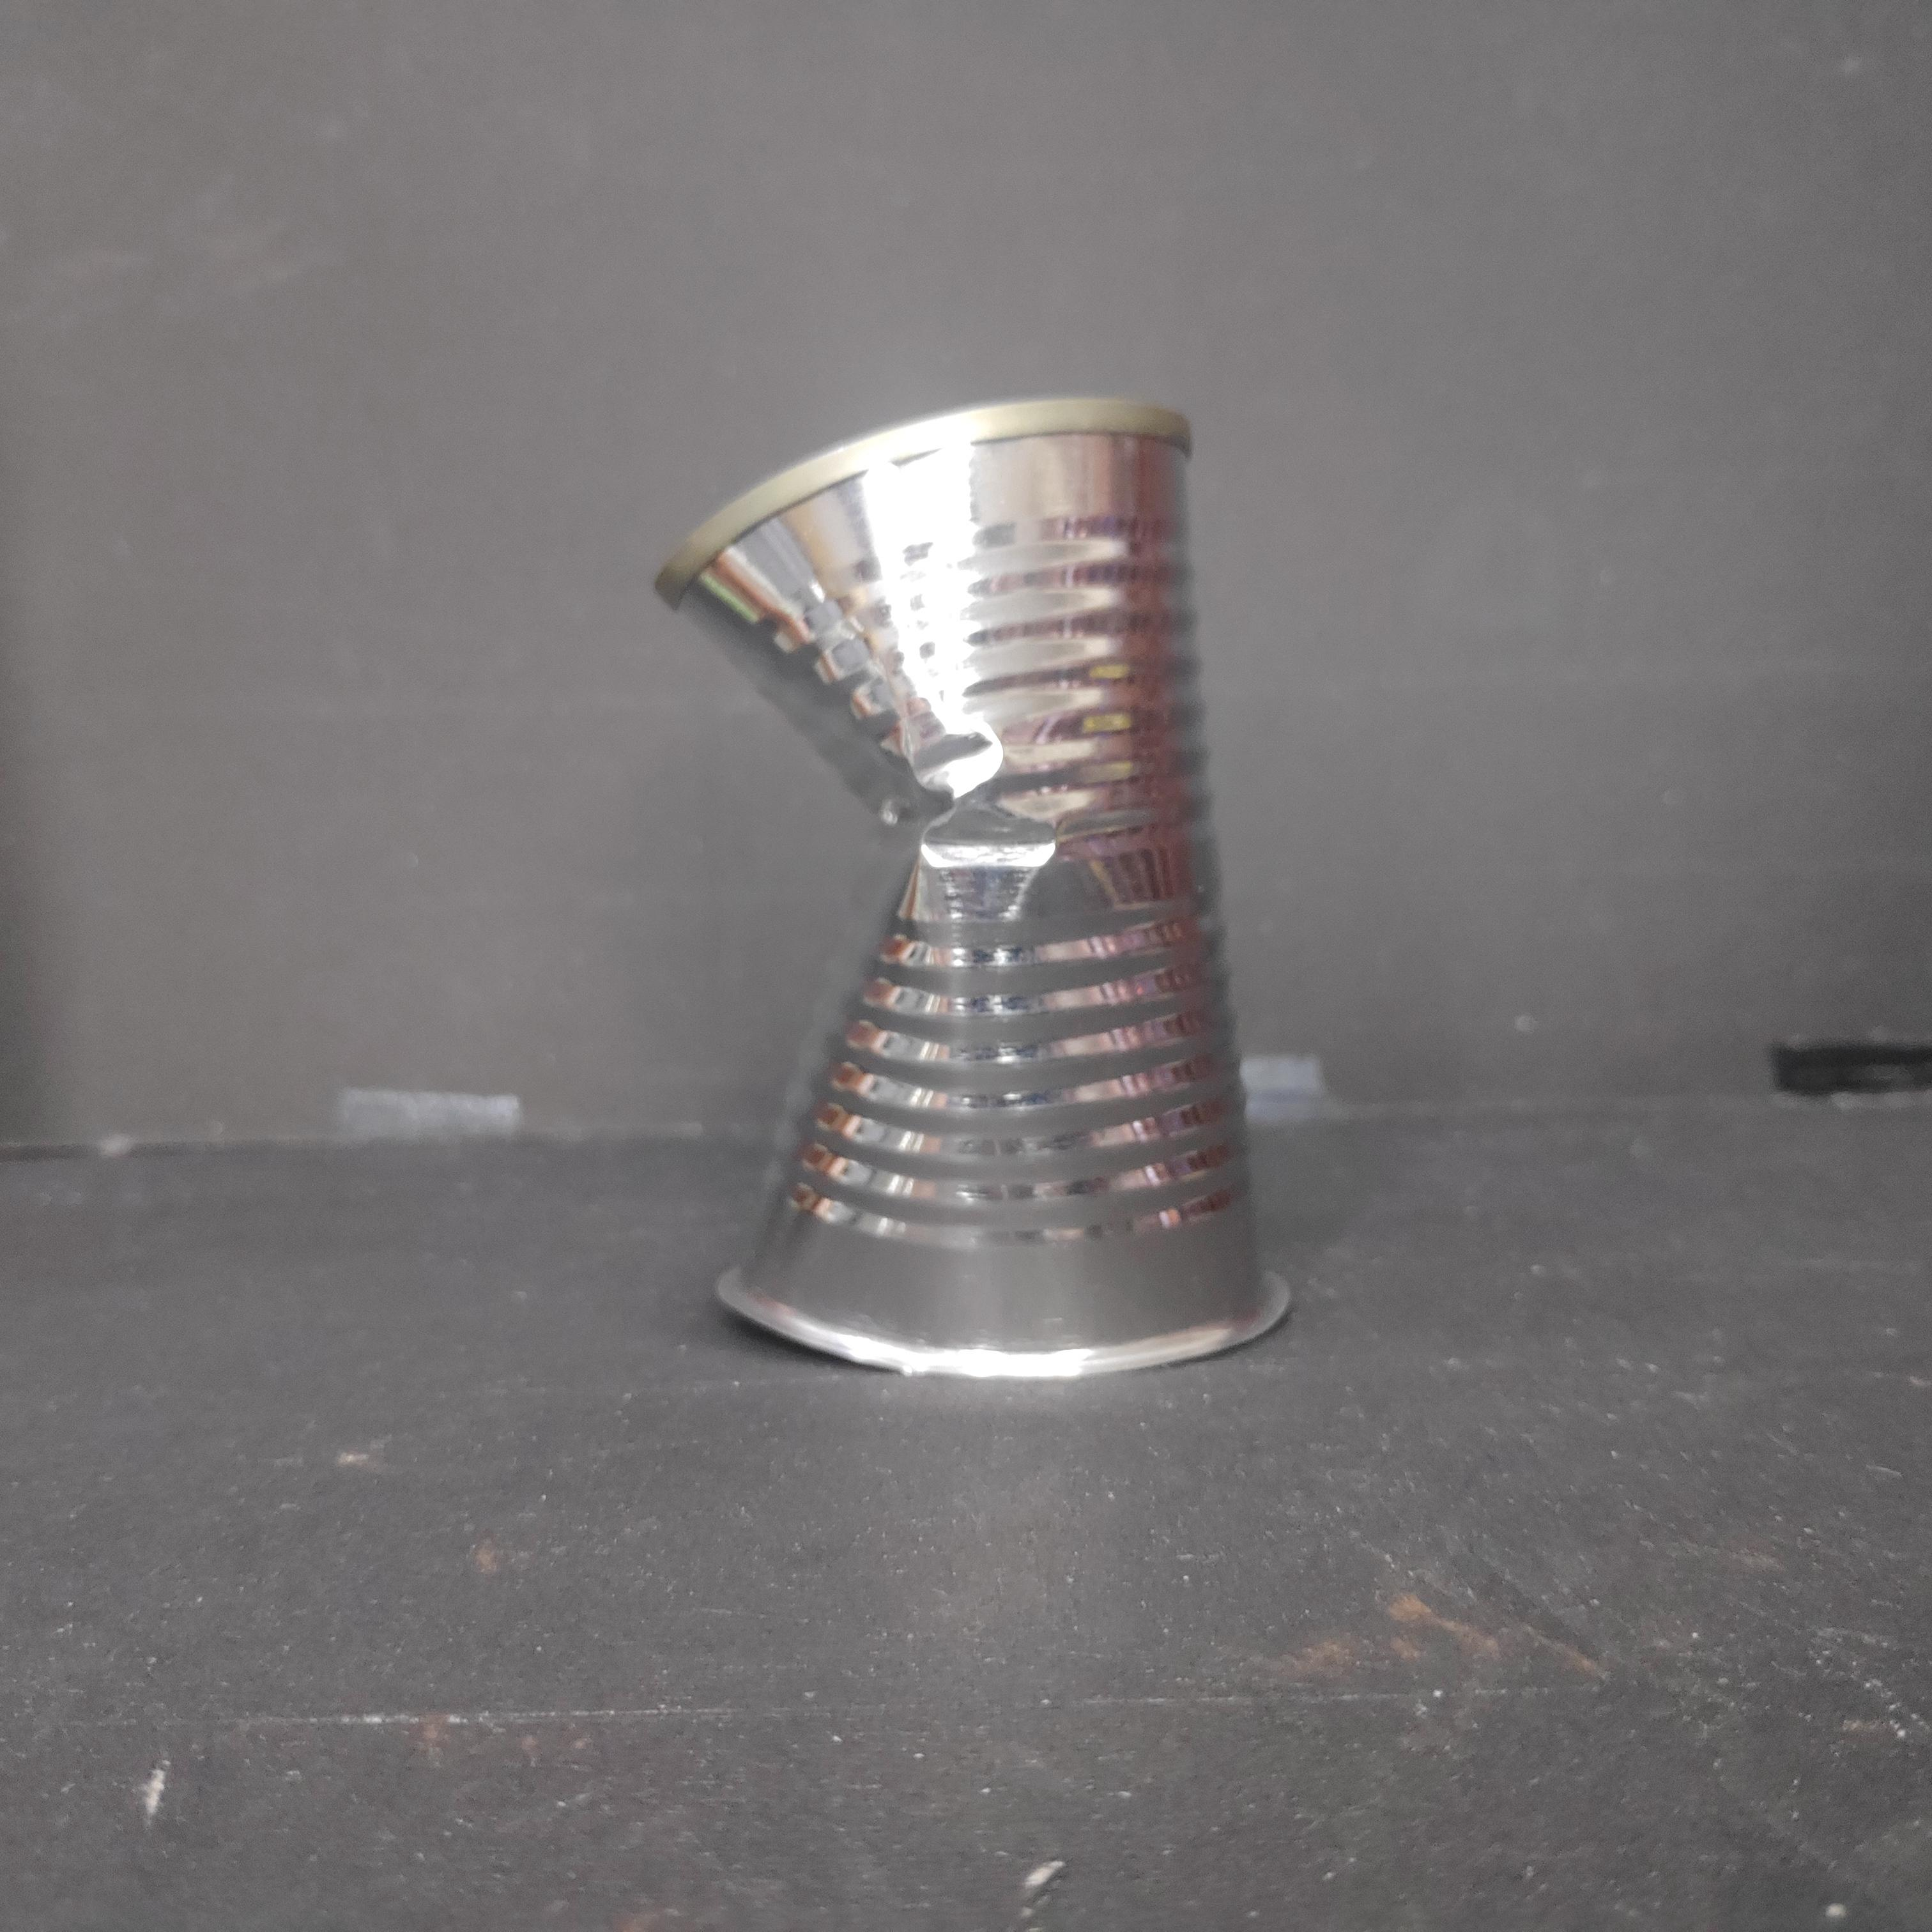Major Defect: (644, 391, 1302, 1387)
